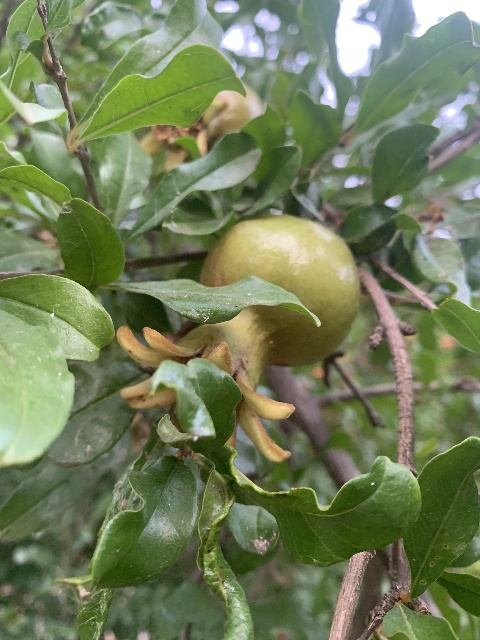mid-growth: (116, 216, 361, 464), (144, 88, 260, 170)
